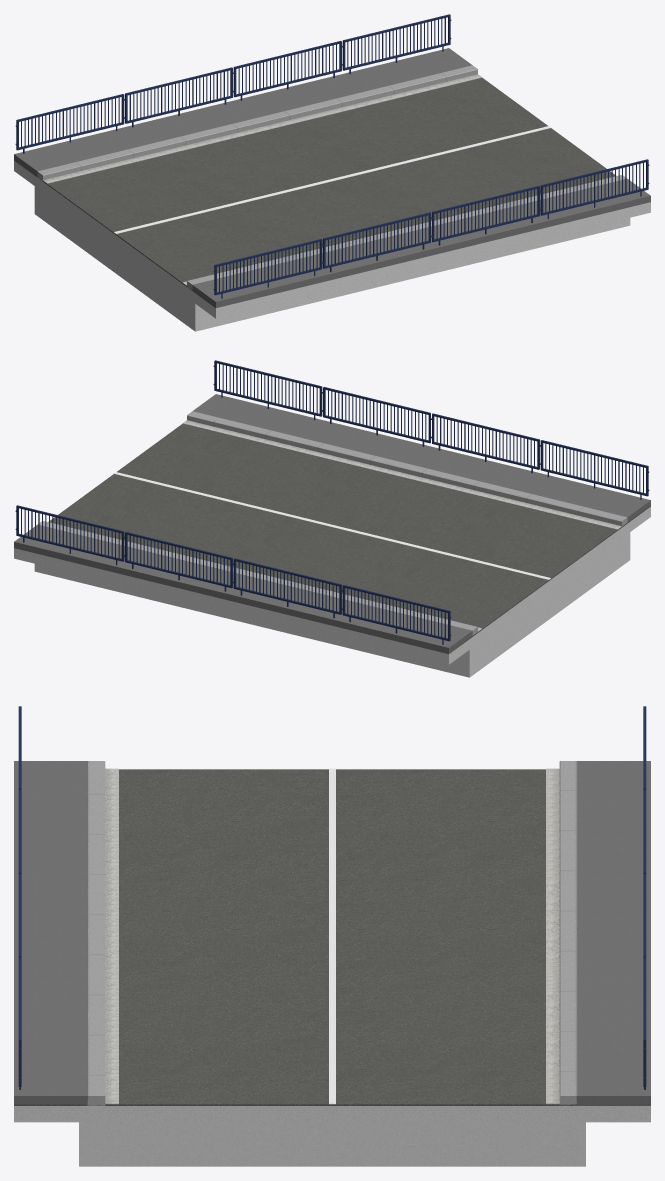
Rendered from pont2Voies.obj.
3 views of the same model, one above another, from view 1: azimuth 30°, elevation 25°; view 2: azimuth 150°, elevation 25°; view 3: azimuth 270°, elevation 25° (orthographic). The views are drawn at different scales.
Visible parts, largest first — view 1: pont2Voies_Plane.039, balustrade2Voies_Plane; view 2: pont2Voies_Plane.039, balustrade2Voies_Plane; view 3: pont2Voies_Plane.039, balustrade2Voies_Plane.
Boxes of the visible parts, <box> form: pont2Voies_Plane.039: <box>14,48,650,331</box>; balustrade2Voies_Plane: <box>15,14,649,298</box>; pont2Voies_Plane.039: <box>14,394,650,677</box>; balustrade2Voies_Plane: <box>15,360,649,644</box>; pont2Voies_Plane.039: <box>14,761,650,1166</box>; balustrade2Voies_Plane: <box>18,706,646,1089</box>.
Size of the model in its own units: 1300 by 228 by 1045.
